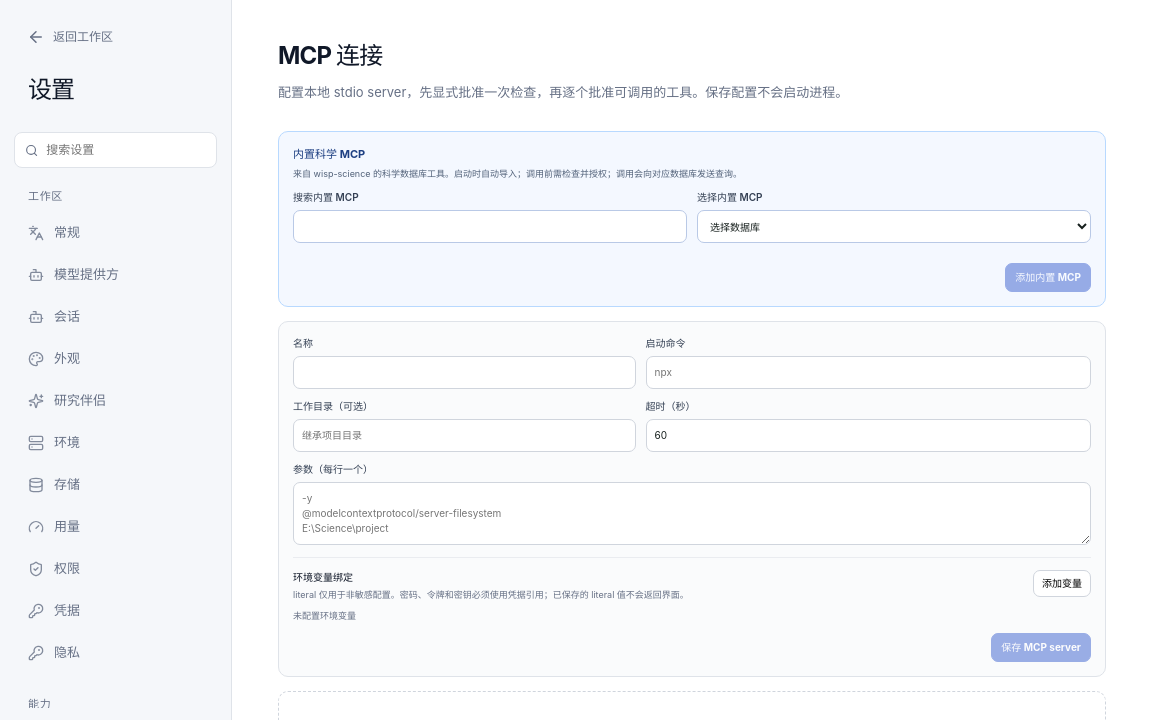
bundled MCP presets › loads and searches the host catalog and registers the chosen preset without inspecting
Type "基因组" into the field labelled "搜索内置 MCP" at (490,226), box [293, 210, 687, 243]
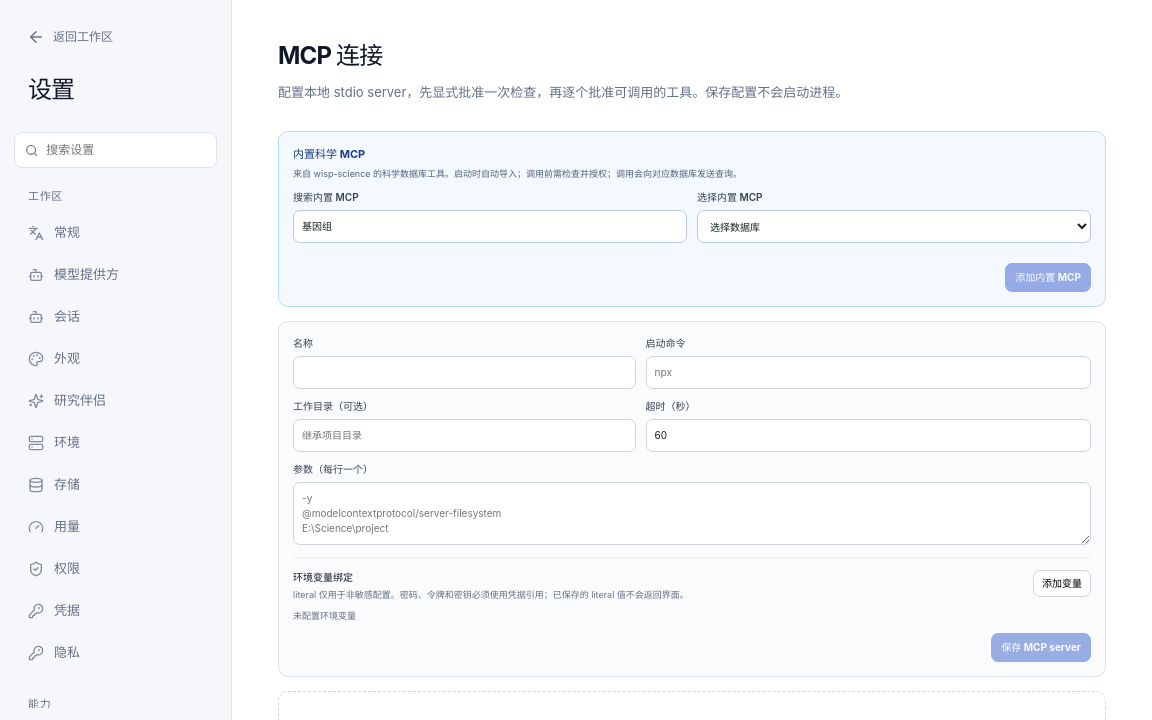
Select "Ensembl · 4 个工具" in the dropdown labelled "选择内置 MCP" at (894,227), box [697, 210, 1091, 243]
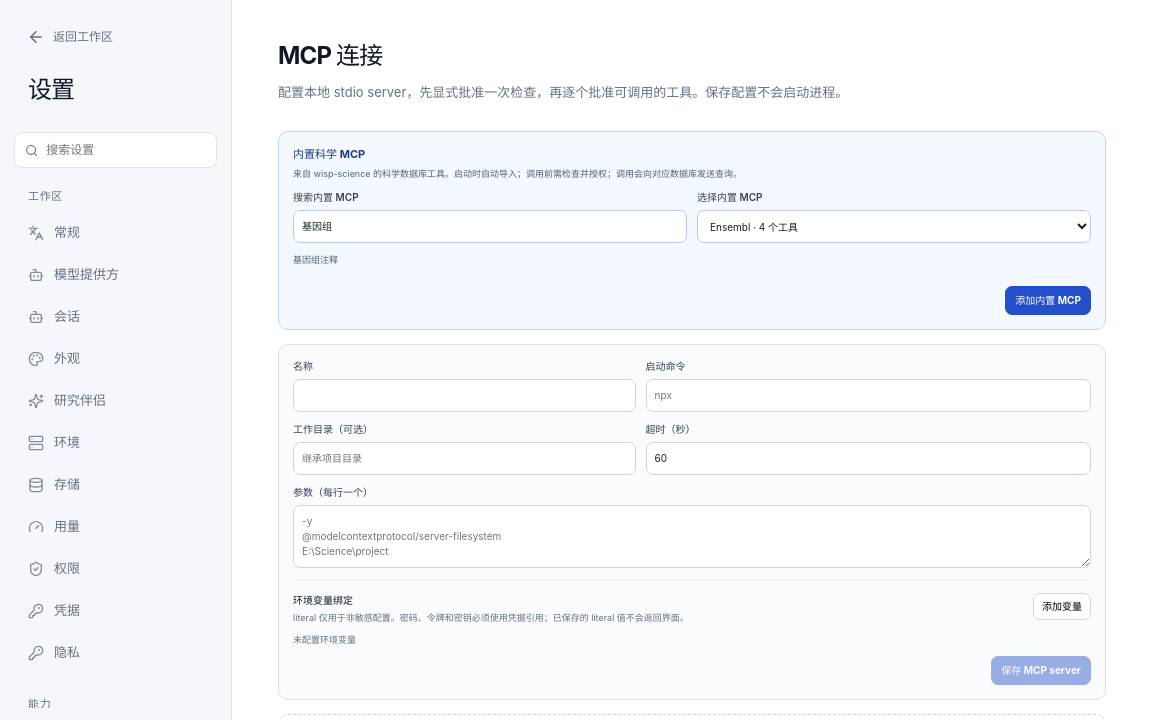
Check: the text "基因组注释" is shown, box [293, 254, 338, 265]
Click the button "添加内置 MCP" at (1048,300), box [1005, 286, 1091, 315]
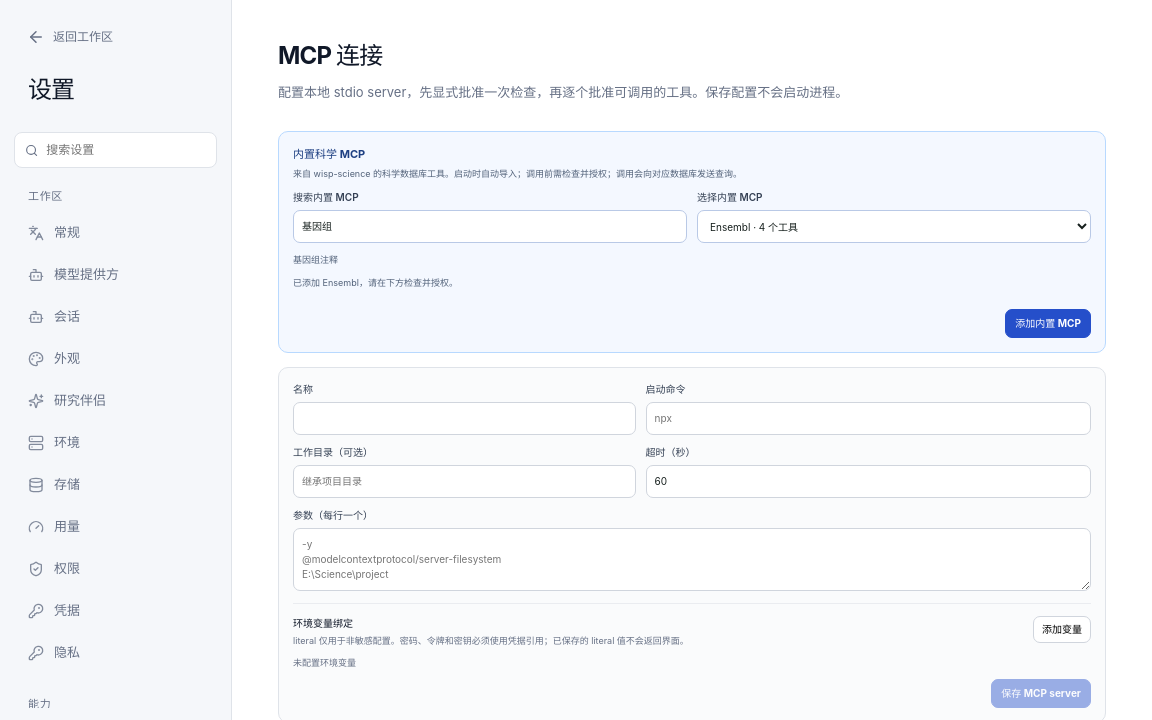
Check: the message shows "已添加 Ensembl", box [293, 277, 458, 288]
